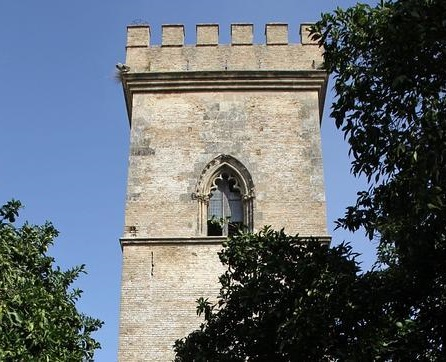arco-apuntado: (202, 161, 252, 199)
